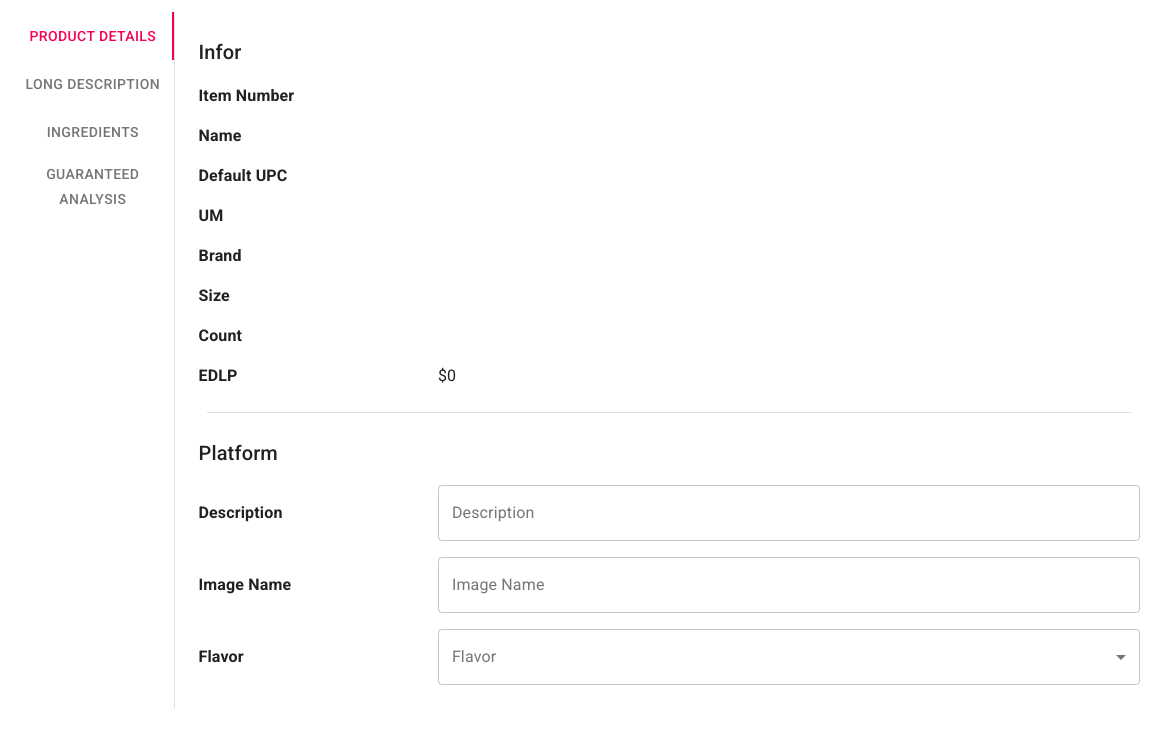
Test: ProductDetailsForm Tests › ProductDetailsForm - Selecting Ingredients tab renders components
This screenshot has width=1164, height=732.
Click the tab with test id "product-form-ingredients-tab".
click(93, 132)  # box [12,108,174,156]
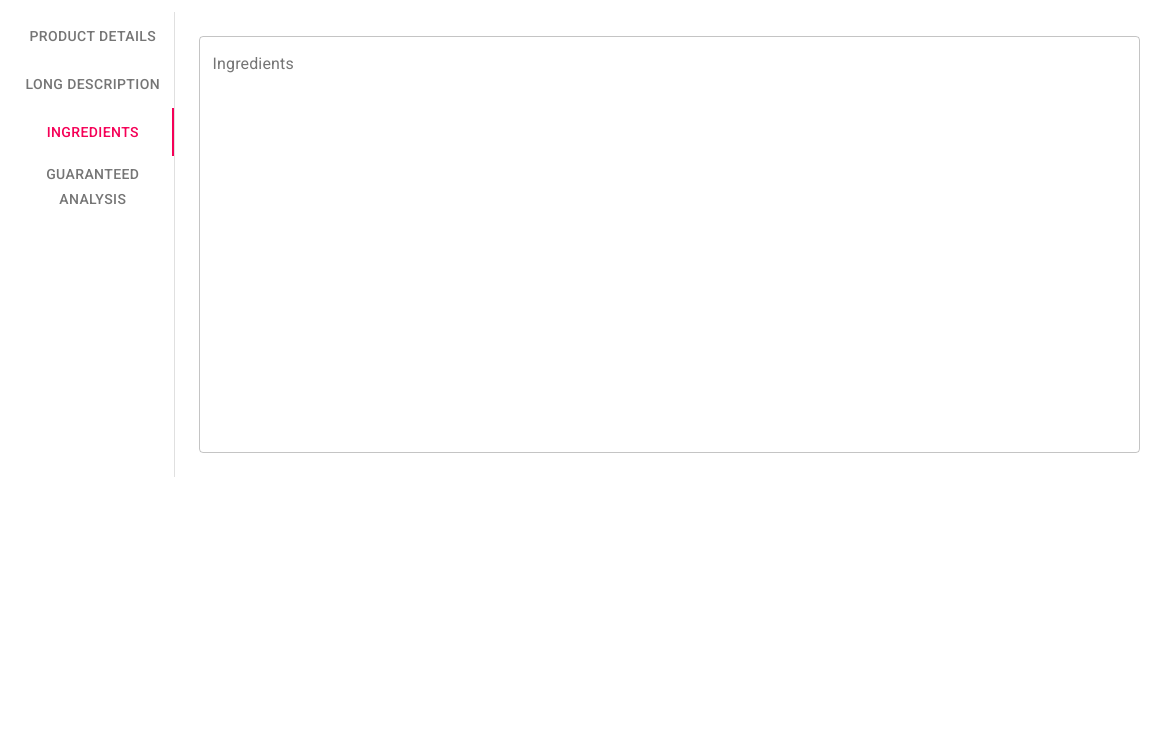
expect the text box with test id "product-form-ingredients" is shown: met, box [212,54,1126,434]
